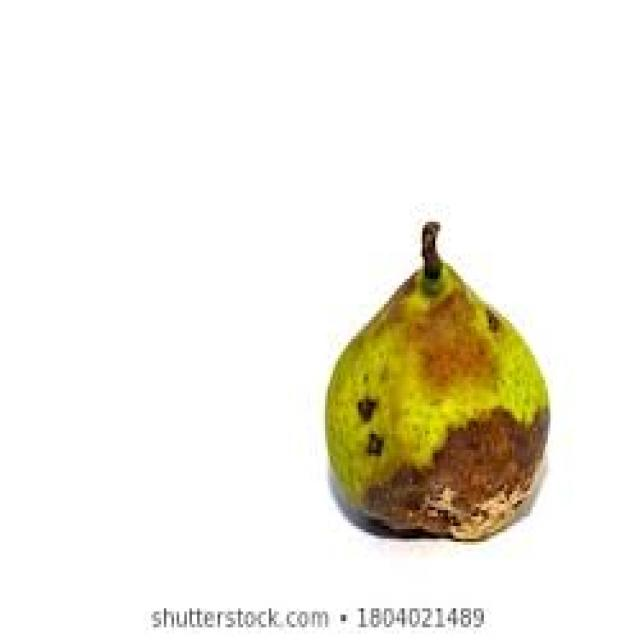organic waste: (322, 218, 548, 536)
